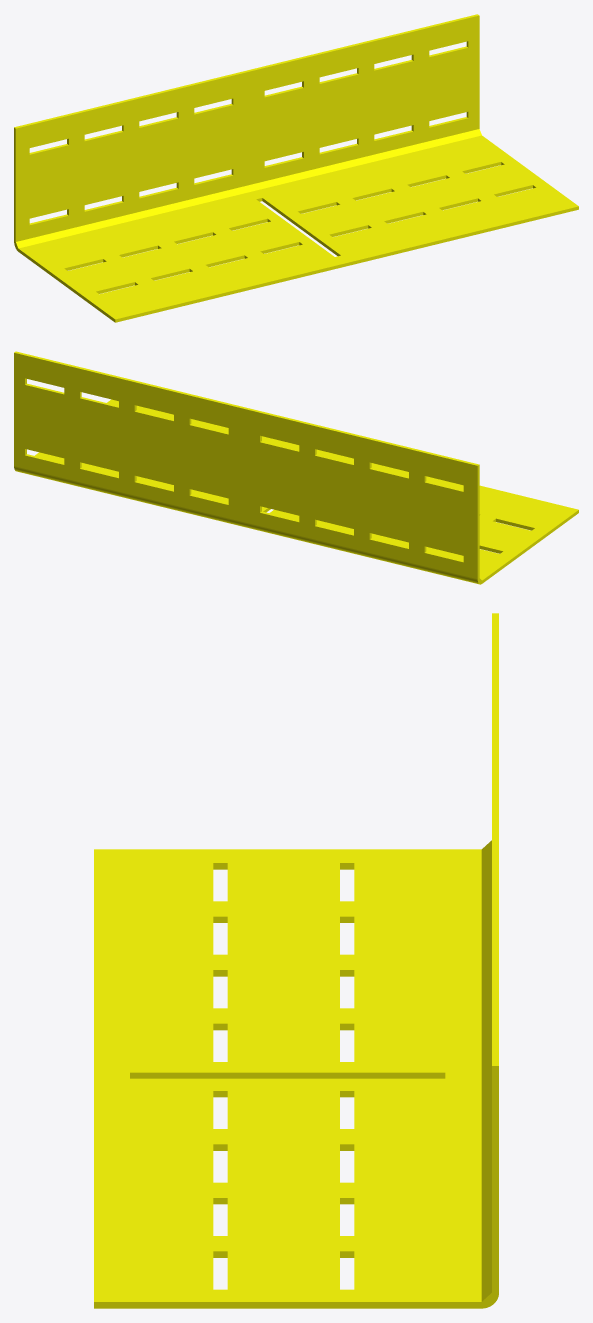
The model's file is EZR_ROUT-PLT.glb.
3 renders of one model, top to bottom at view 1: azimuth 30°, elevation 25°; view 2: azimuth 150°, elevation 25°; view 3: azimuth 270°, elevation 25°, orthographic. The views are drawn at different scales.
Parts seen in each view (by area): view 1: Geom3D; view 2: Geom3D; view 3: Geom3D.
Part boxes in pixels (box(x1,y1,x2,y2)): Geom3D: box(14, 14, 578, 322); Geom3D: box(14, 351, 578, 584); Geom3D: box(94, 613, 498, 1308).
Size of the model in its own units: 0.296 by 0.074 by 0.112.
